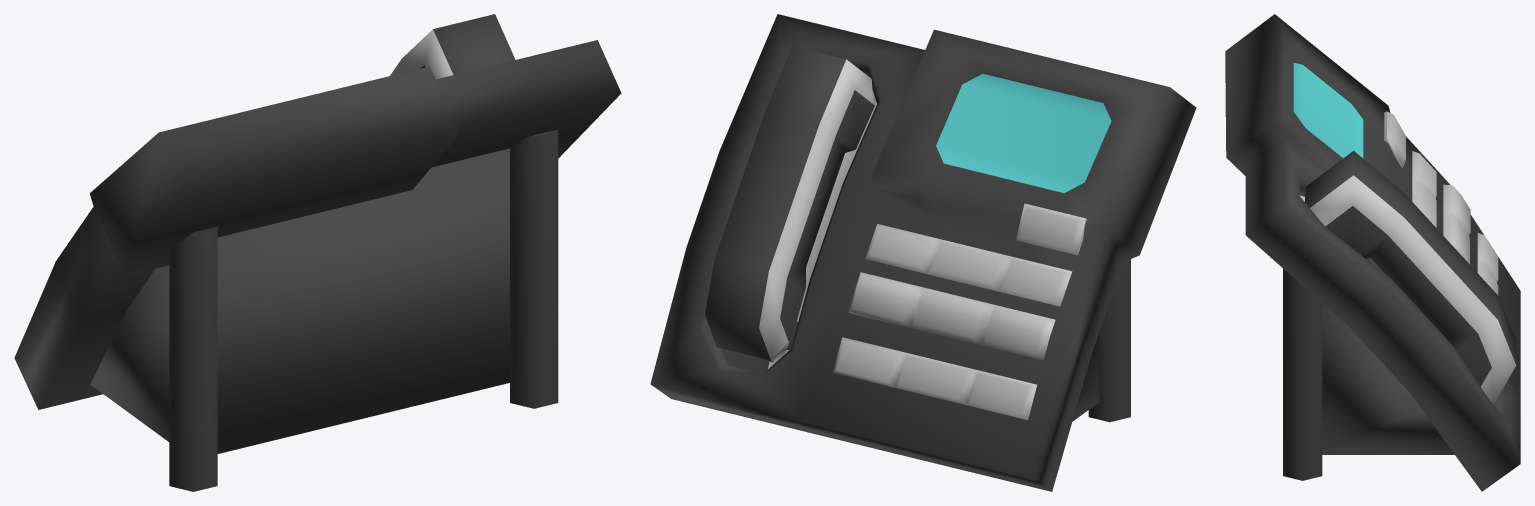
Rendered from GreyboxPhone.fbx.
The picture shows the model from 3 angles, left to right: view 1: azimuth 30°, elevation 25°; view 2: azimuth 150°, elevation 25°; view 3: azimuth 270°, elevation 25°; orthographic projection. The views are drawn at different scales.
Visible parts, largest first — view 1: Base; view 2: Base, Button5, Button2, Button8, Button4, Button6, Backspace, Button3, Button1, Button9, Button7; view 3: Base, Button6, Button5, Backspace, Button3, Button2, Button9.
Part boxes in pixels (<box>): Base: <box>14,14,621,491</box>; Base: <box>650,14,1196,491</box>; Button5: <box>910,287,993,345</box>; Button2: <box>927,239,1010,291</box>; Button8: <box>894,352,975,404</box>; Button4: <box>848,272,921,327</box>; Button6: <box>982,305,1055,360</box>; Backspace: <box>1016,203,1087,255</box>; Button3: <box>999,256,1072,306</box>; Button1: <box>865,224,938,273</box>; Button9: <box>966,370,1036,420</box>; Button7: <box>833,337,903,387</box>; Base: <box>1225,14,1520,491</box>; Button6: <box>1443,184,1470,235</box>; Button5: <box>1443,212,1469,264</box>; Backspace: <box>1384,111,1405,167</box>; Button3: <box>1412,151,1436,198</box>; Button2: <box>1412,179,1436,227</box>; Button9: <box>1477,233,1498,282</box>.
Size of the model in its own units: 6.01 by 4.81 by 4.27.
